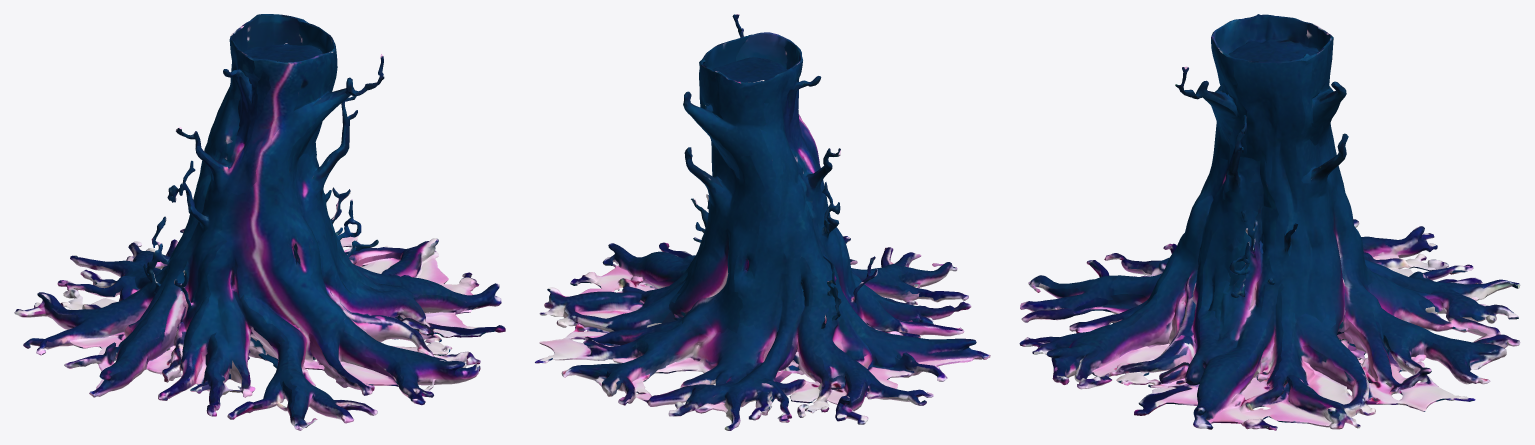
Rendered from sea-root-north-generated-2026-05-17T19-28-31-825Z.high.glb.
3 views of the same model, side by side, from view 1: azimuth 30°, elevation 25°; view 2: azimuth 150°, elevation 25°; view 3: azimuth 270°, elevation 25° (orthographic). The views are drawn at different scales.
Visible parts, largest first — view 1: temp_mesh.ply; view 2: temp_mesh.ply; view 3: temp_mesh.ply.
Part boxes in pixels (left/top/right/bottom): temp_mesh.ply: left=14, top=14, right=505, bottom=430; temp_mesh.ply: left=535, top=14, right=990, bottom=430; temp_mesh.ply: left=1019, top=14, right=1520, bottom=430.
Bounding box in the file's own units: 1.96 × 1.35 × 1.97.
1 material, 1 textured.
